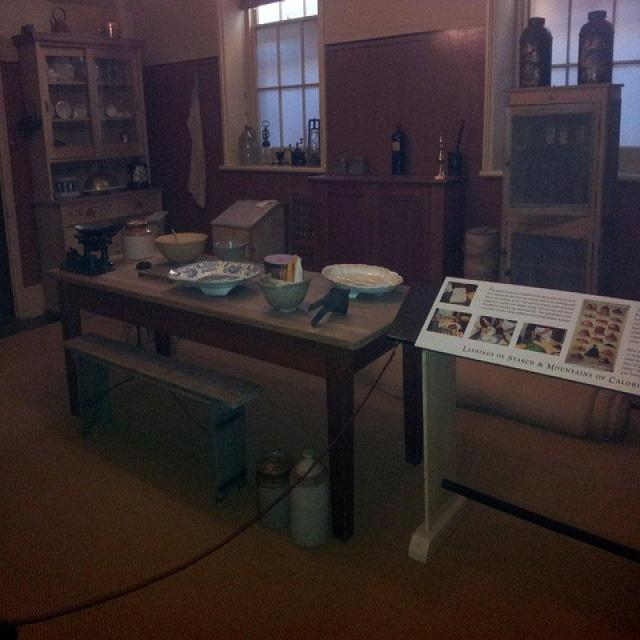Bottle: (385, 99, 415, 184), (233, 117, 260, 173), (303, 110, 327, 166)
Table: (37, 243, 436, 563)
chair: (38, 322, 275, 558)
